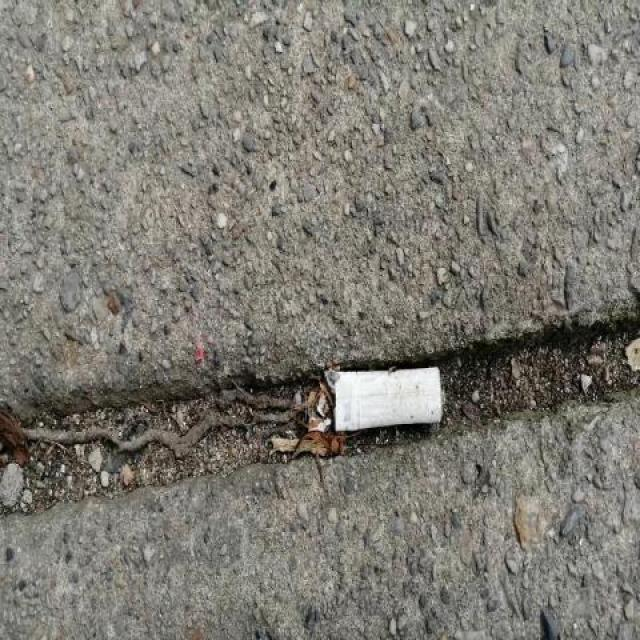non-organic waste: (330, 358, 446, 441)
